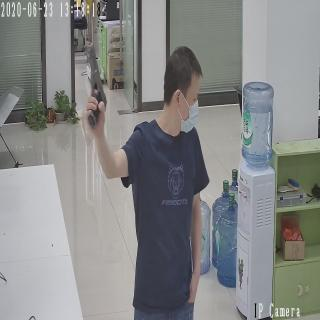gun: (84, 44, 108, 129)
